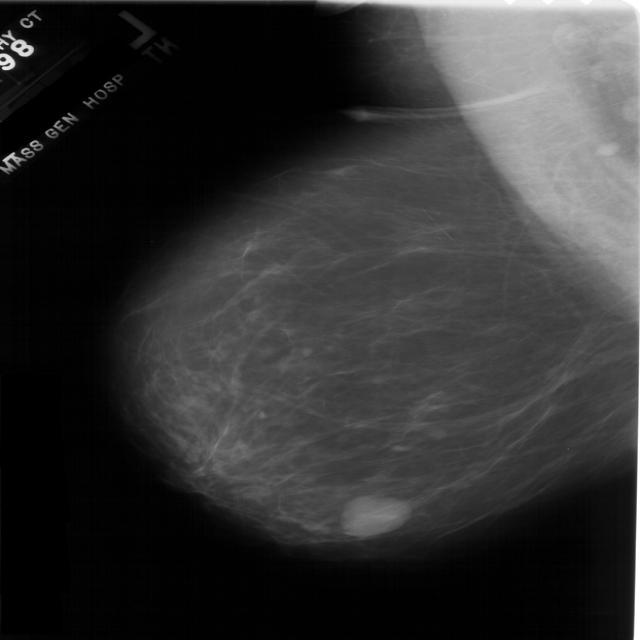tumour: (341, 494, 408, 537)
